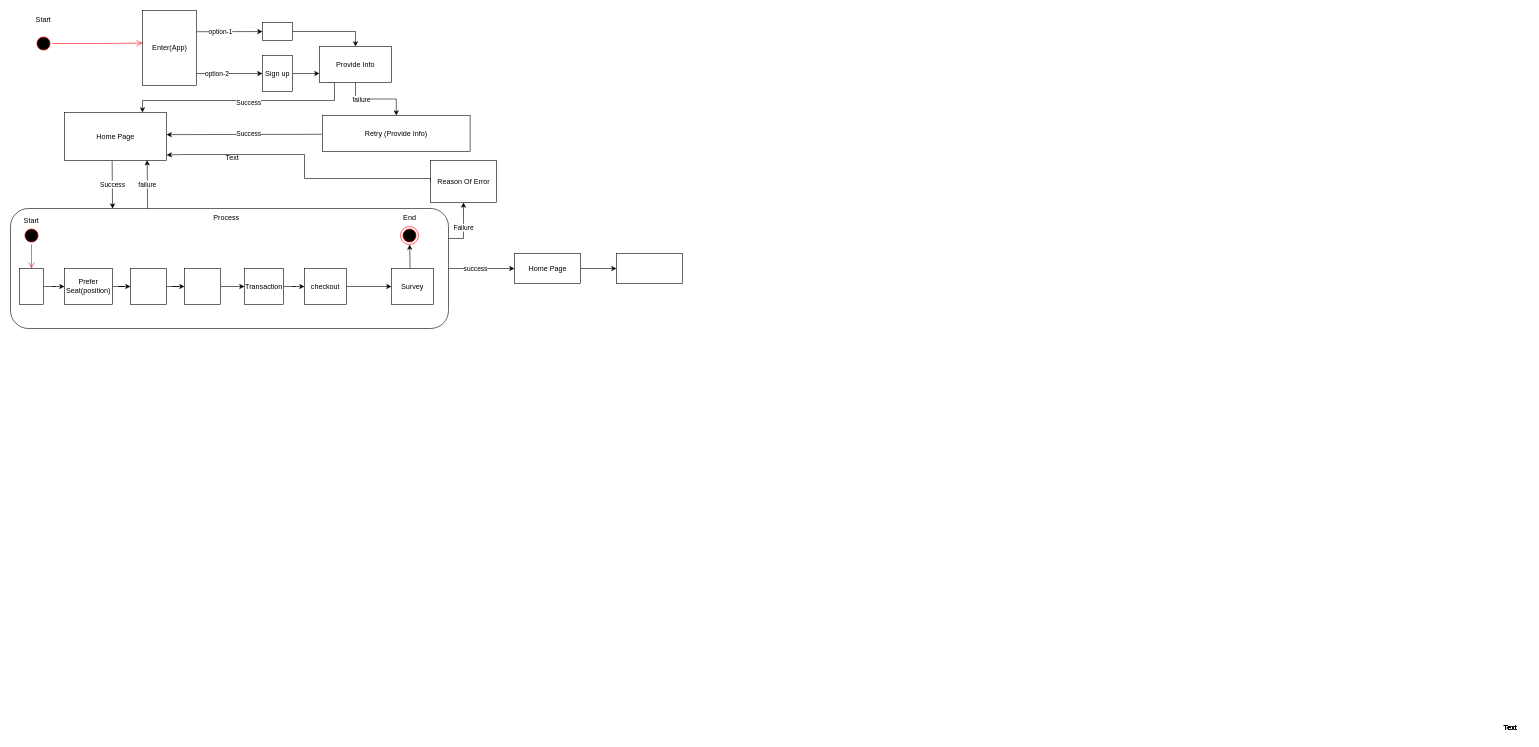
Image size: 1539x747. Some labels were removed from this diagram. The box of each missing label's shape, as (x1, y1, x2, y2) in pixels:
Food preference: (184, 268, 220, 304)
login: (262, 22, 292, 40)
logout: (616, 253, 682, 284)
luggage Quantity: (130, 268, 166, 304)
Seat class: (19, 268, 44, 304)
